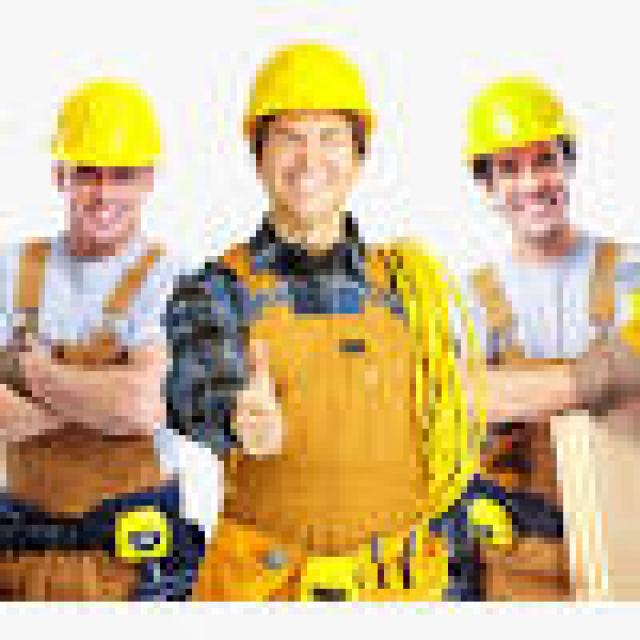Reflective-Jacket: (218, 224, 499, 602)
Safety-Helmet: (224, 32, 397, 147), (32, 64, 179, 186), (448, 64, 595, 173)
